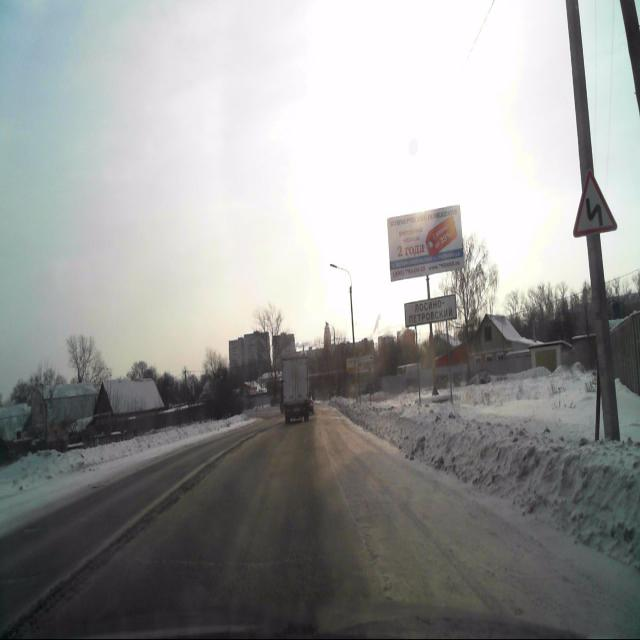road sign: (572, 168, 620, 236), (404, 294, 457, 328), (446, 321, 454, 408), (416, 325, 422, 410)
